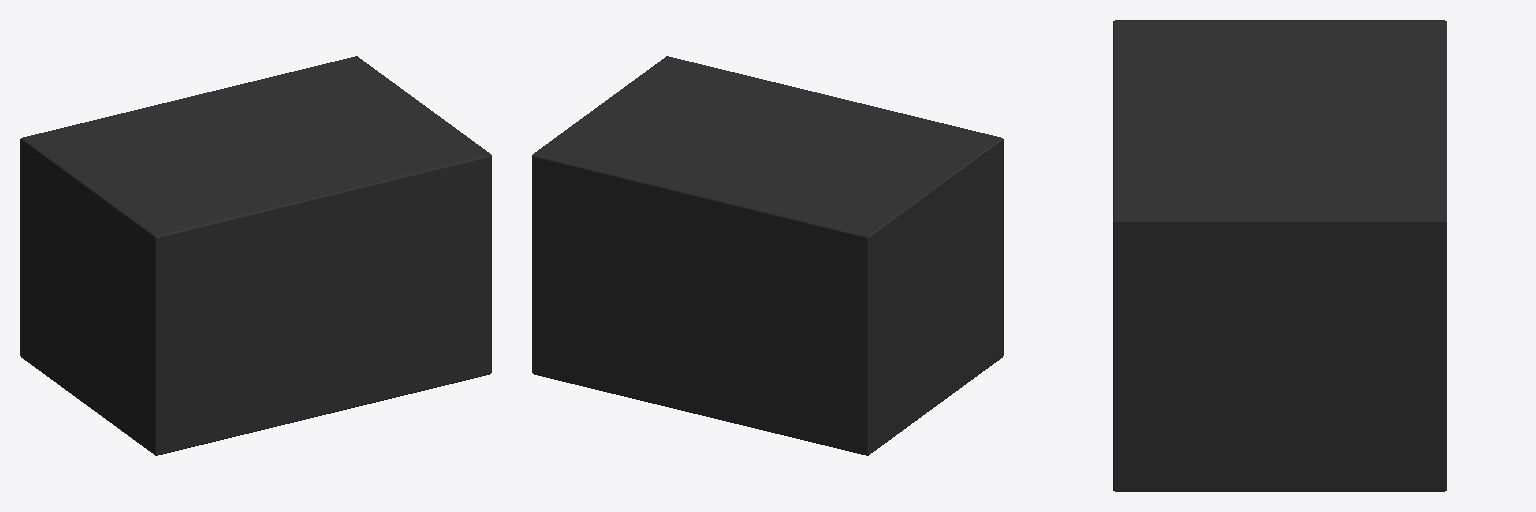
URDF robot description (right-pull-door):
<?xml version="1.0" ?>
<robot name="right-pull-door">
	<link name="base"/>
	<link name="link_0">
		<visual name="out-frame">
			<origin xyz="0 0 0"/>
			<geometry>
				<mesh filename="texture_dae/frame.dae" scale="0.6 0.6 0.6"/>
			</geometry>
		</visual>
		<collision>
			<origin xyz="0 0 0"/>
			<geometry>
				<mesh filename="texture_dae/frame.dae" scale="0.6 0.6 0.6"/>
			</geometry>
		</collision>
	</link>
	<joint name="joint_0" type="fixed">
		<origin rpy="1.570796326794897 0 -1.570796326794897" xyz="0 0 0"/>
		<child link="link_0"/>
		<parent link="base"/>
	</joint>
	<link name="link_1">
		<visual name="surf-board">
			<origin xyz="0.27108137905597685 0 0"/>
			<geometry>
				<mesh filename="texture_dae/board.dae" scale="0.6 0.6 0.6"/>
			</geometry>
		</visual>
		<collision>
			<origin xyz="0.27108137905597685 0 0"/>
			<geometry>
				<mesh filename="texture_dae/board.dae" scale="0.6 0.6 0.6"/>
			</geometry>
		</collision>
	</link>
	<joint name="joint_1" type="revolute">
		<origin xyz="-0.27108137905597685 0 0"/>
		<axis xyz="0 -1 0"/>
		<child link="link_1"/>
		<parent link="link_0"/>
		<limit lower="0" upper="1.5079644737231006"/>
	</joint>
	<link name="link_2">
		<visual name="handle">
			<origin xyz="0 0 0"/>
			<geometry>
				<mesh filename="texture_dae/9961229.dae" scale="0.1 0.1 0.1"/>
			</geometry>
		</visual>
		<collision>
			<origin xyz="0 0 0"/>
			<geometry>
				<mesh filename="texture_dae/9961229.dae" scale="0.1 0.1 0.1"/>
			</geometry>
		</collision>
	</link>
	<joint name="joint_2" type="revolute">
		<origin xyz="0.27108137905597685 0 0.06252380967527302"/>
		<child link="link_2"/>
		<parent link="link_1"/>
		<axis xyz="0 0 1"/>
		<limit lower="0" upper="1.5079644737231006"/>
	</joint>
</robot>

--- What the picture shows (computed from the rendered views, not written in the file) ---
The picture shows the robot from 3 angles, left to right: view 1: azimuth 30°, elevation 25°; view 2: azimuth 150°, elevation 25°; view 3: azimuth 270°, elevation 25°; orthographic projection.
Robot: right-pull-door — 4 links, 3 joints (2 revolute, 1 fixed); root link base; default pose: all joints at 0.
Links seen in each view (by area): view 1: link_0; view 2: link_0; view 3: link_0.
Link boxes in pixels (x1=…): link_0: x1=20, y1=56, x2=491, y2=455; link_0: x1=532, y1=56, x2=1003, y2=455; link_0: x1=1113, y1=20, x2=1446, y2=491.
Size in the robot's own frame: 0.8884 by 0.6219 by 0.5733 metres.
Meshes: 3 distinct files referenced, 3 mesh visuals loaded (3 Collada DAE).
